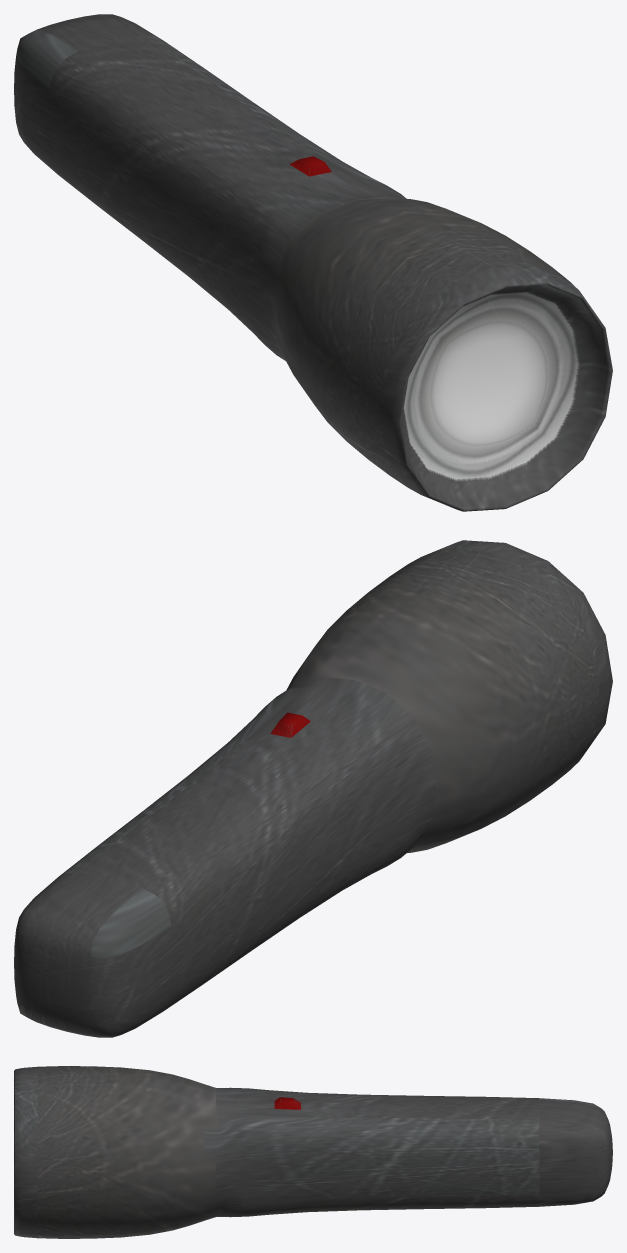
The model's file is Zaklamp.fbx.
3 renders of one model, top to bottom at view 1: azimuth 30°, elevation 25°; view 2: azimuth 150°, elevation 25°; view 3: azimuth 270°, elevation 25°, orthographic. The views are drawn at different scales.
Parts seen in each view (by area): view 1: Cube; view 2: Cube; view 3: Cube.
Boxes of the visible parts, x1=… form: Cube: x1=14, y1=14, x2=612, y2=511; Cube: x1=14, y1=540, x2=612, y2=1037; Cube: x1=14, y1=1066, x2=612, y2=1238.
Bounding box in the file's own units: 68.5 × 68.5 × 240.
